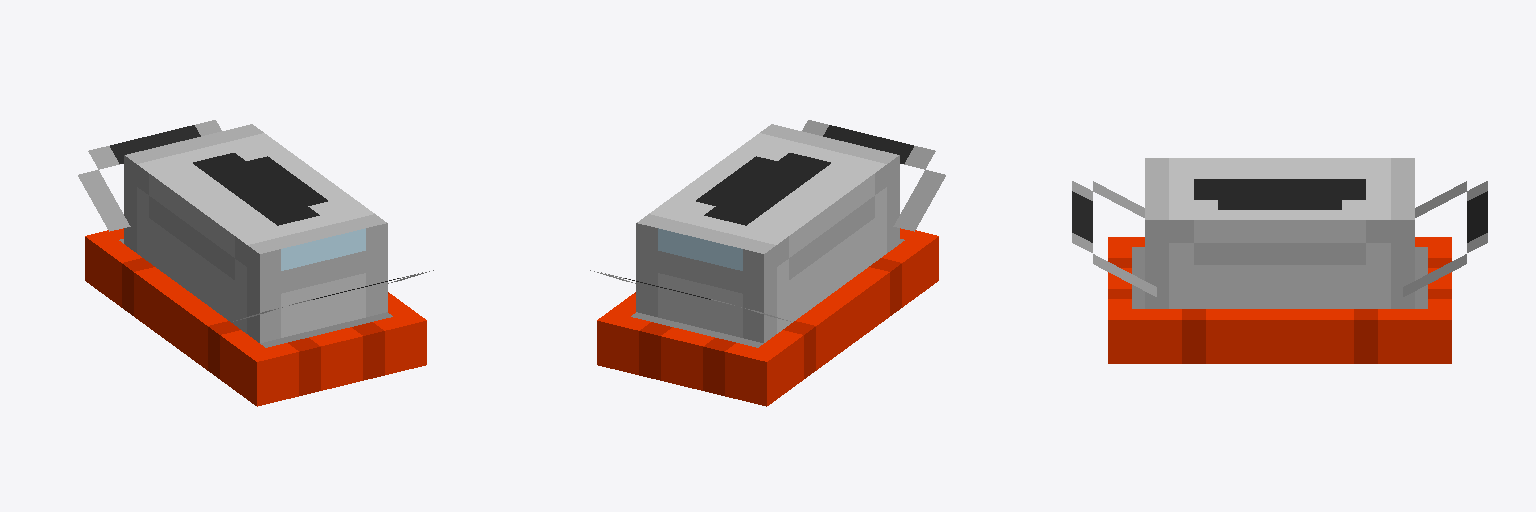
The picture shows the model from 3 angles: view 1: azimuth 30°, elevation 25°; view 2: azimuth 150°, elevation 25°; view 3: azimuth 270°, elevation 25°; orthographic projection.
Parts seen in each view (by area): view 1: cube; view 2: cube; view 3: cube.
Part boxes in pixels (x1,y1,x2,y2): cube: (78,120,433,406); cube: (590,120,945,406); cube: (1072,158,1487,363).
Size of the model in its own units: 0.5 by 0.375 by 1.06.
1 materials, 1 textured.